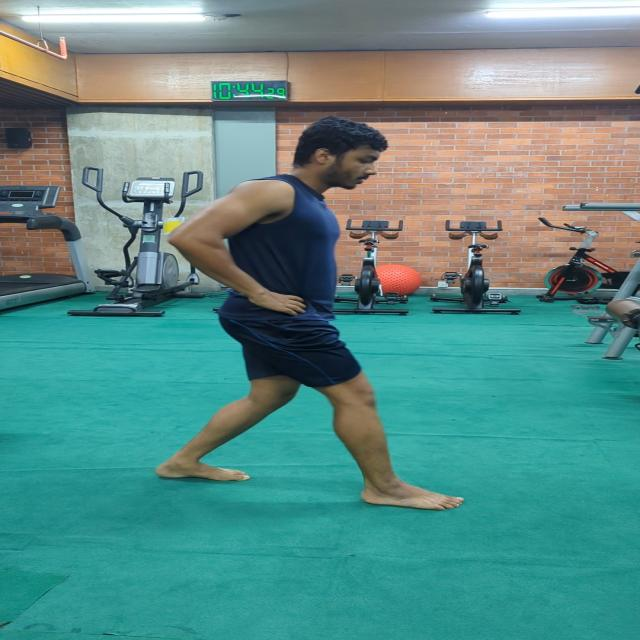Normal_Lunges: (150, 106, 480, 516)
